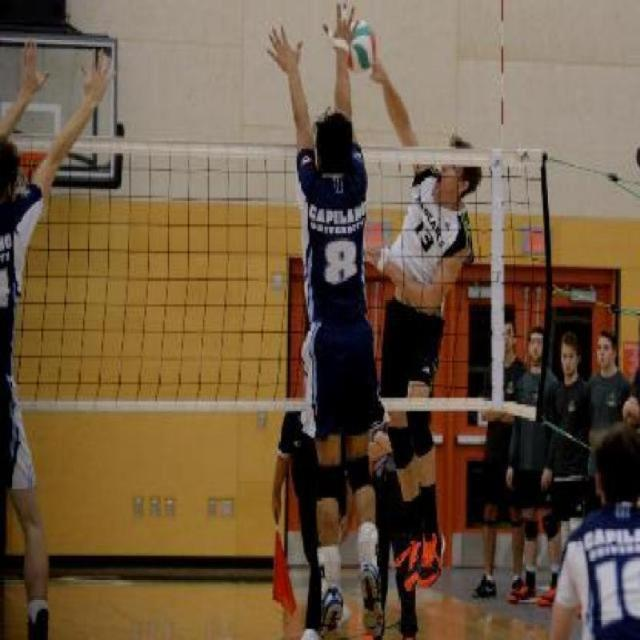volleyball: (348, 18, 377, 74)
